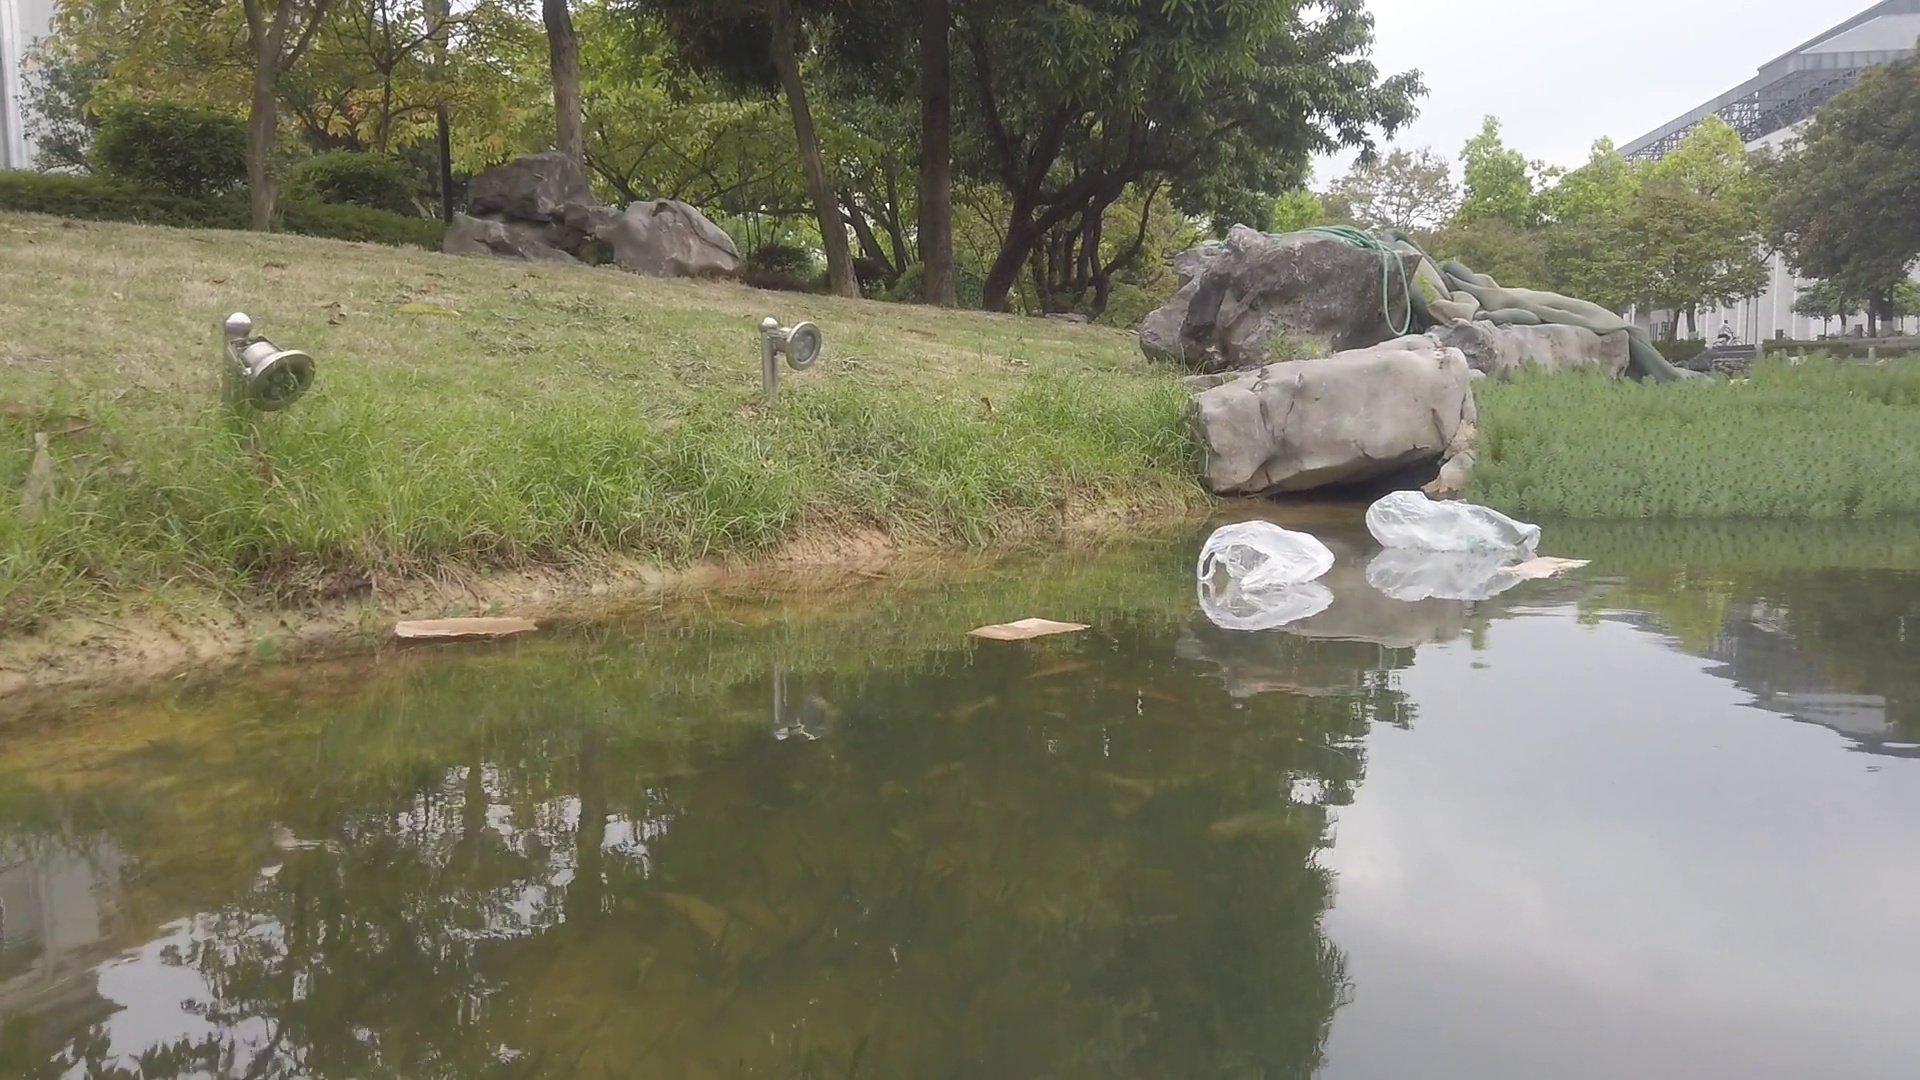paper: (400, 615, 535, 642), (964, 613, 1091, 642), (1497, 558, 1592, 580)
plastic: (1367, 489, 1545, 555), (1201, 522, 1338, 585)
